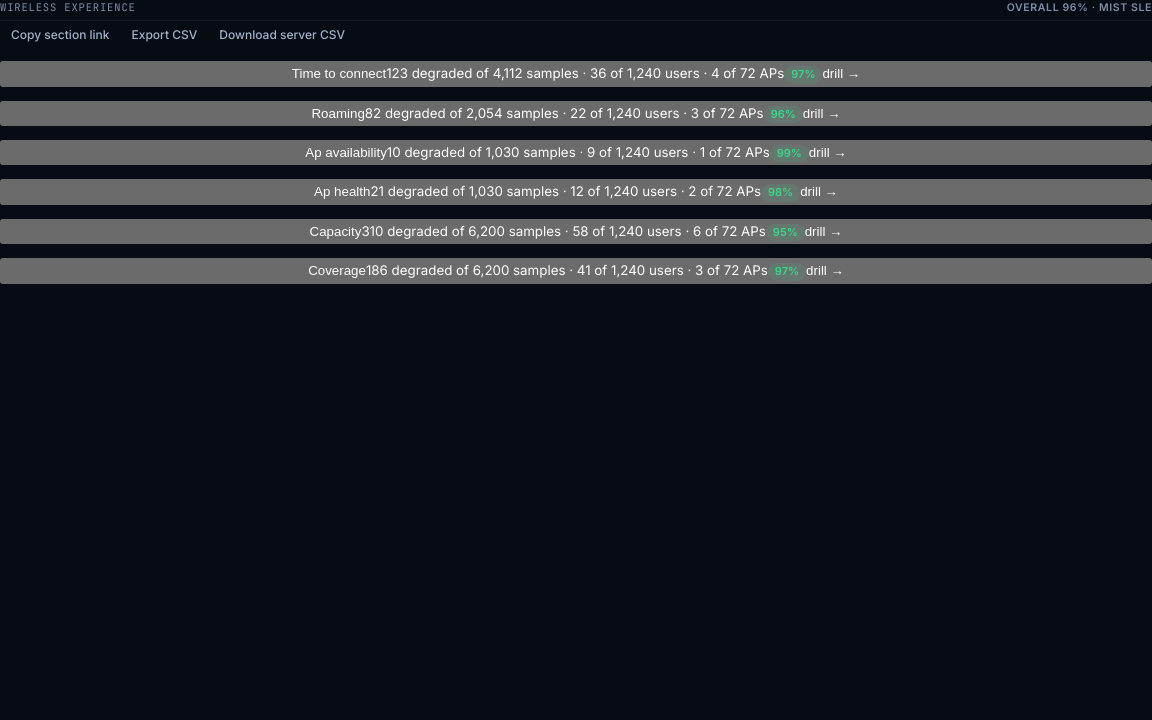
it: SiteSle drill drawer › 404 words the drawer as "not reported", never as an empty drill
Click the button "Roaming" at point(576, 113), box [0,101,1151,126]
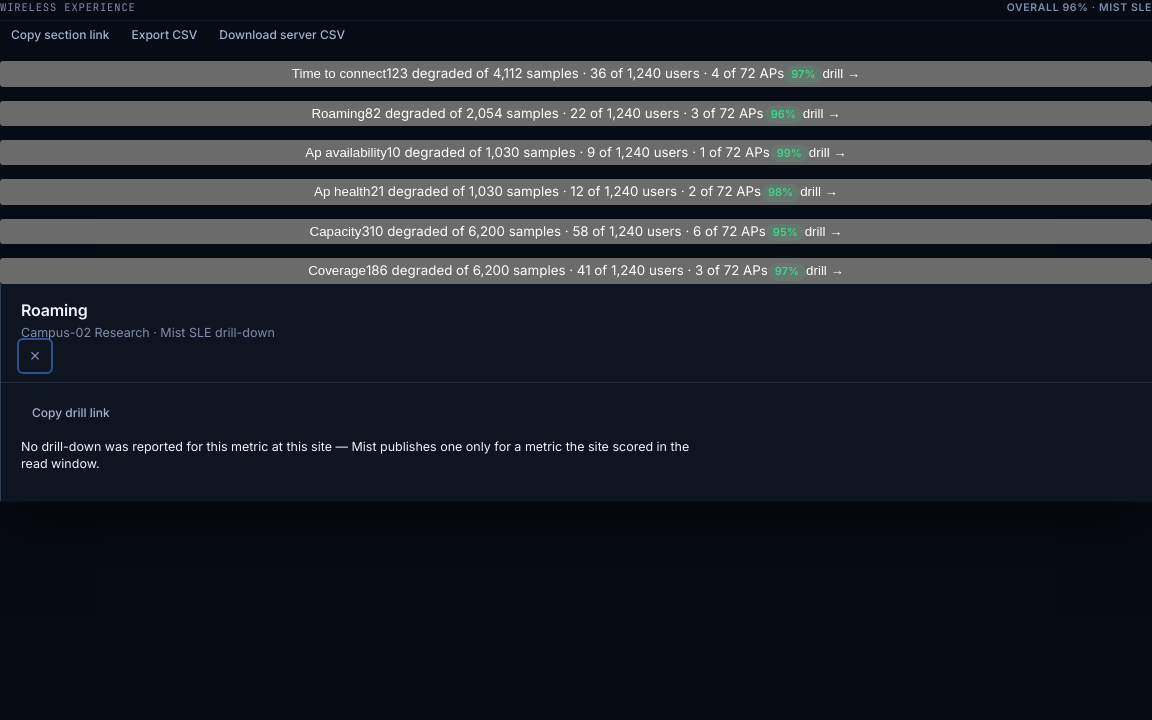
Check: the dialog is shown, box [0,284,1151,501]
Check: the text "No drill-down was reported for this metric at this site" is shown, box [21,439,689,471]
